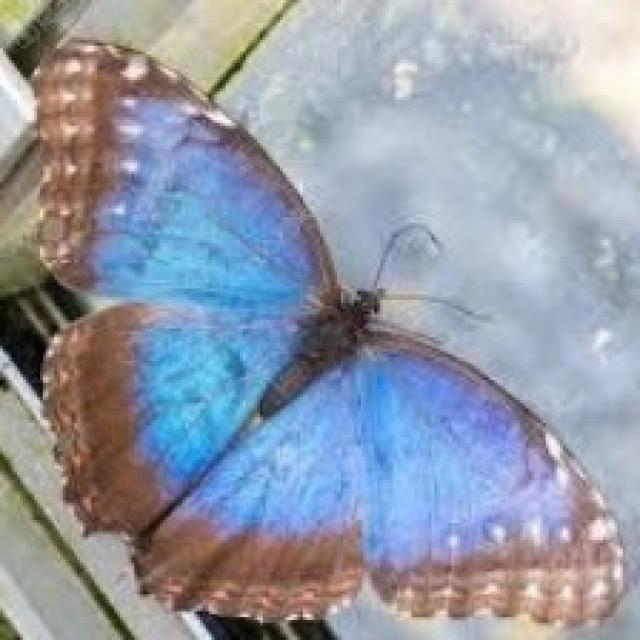butterfly: (29, 34, 626, 626)
